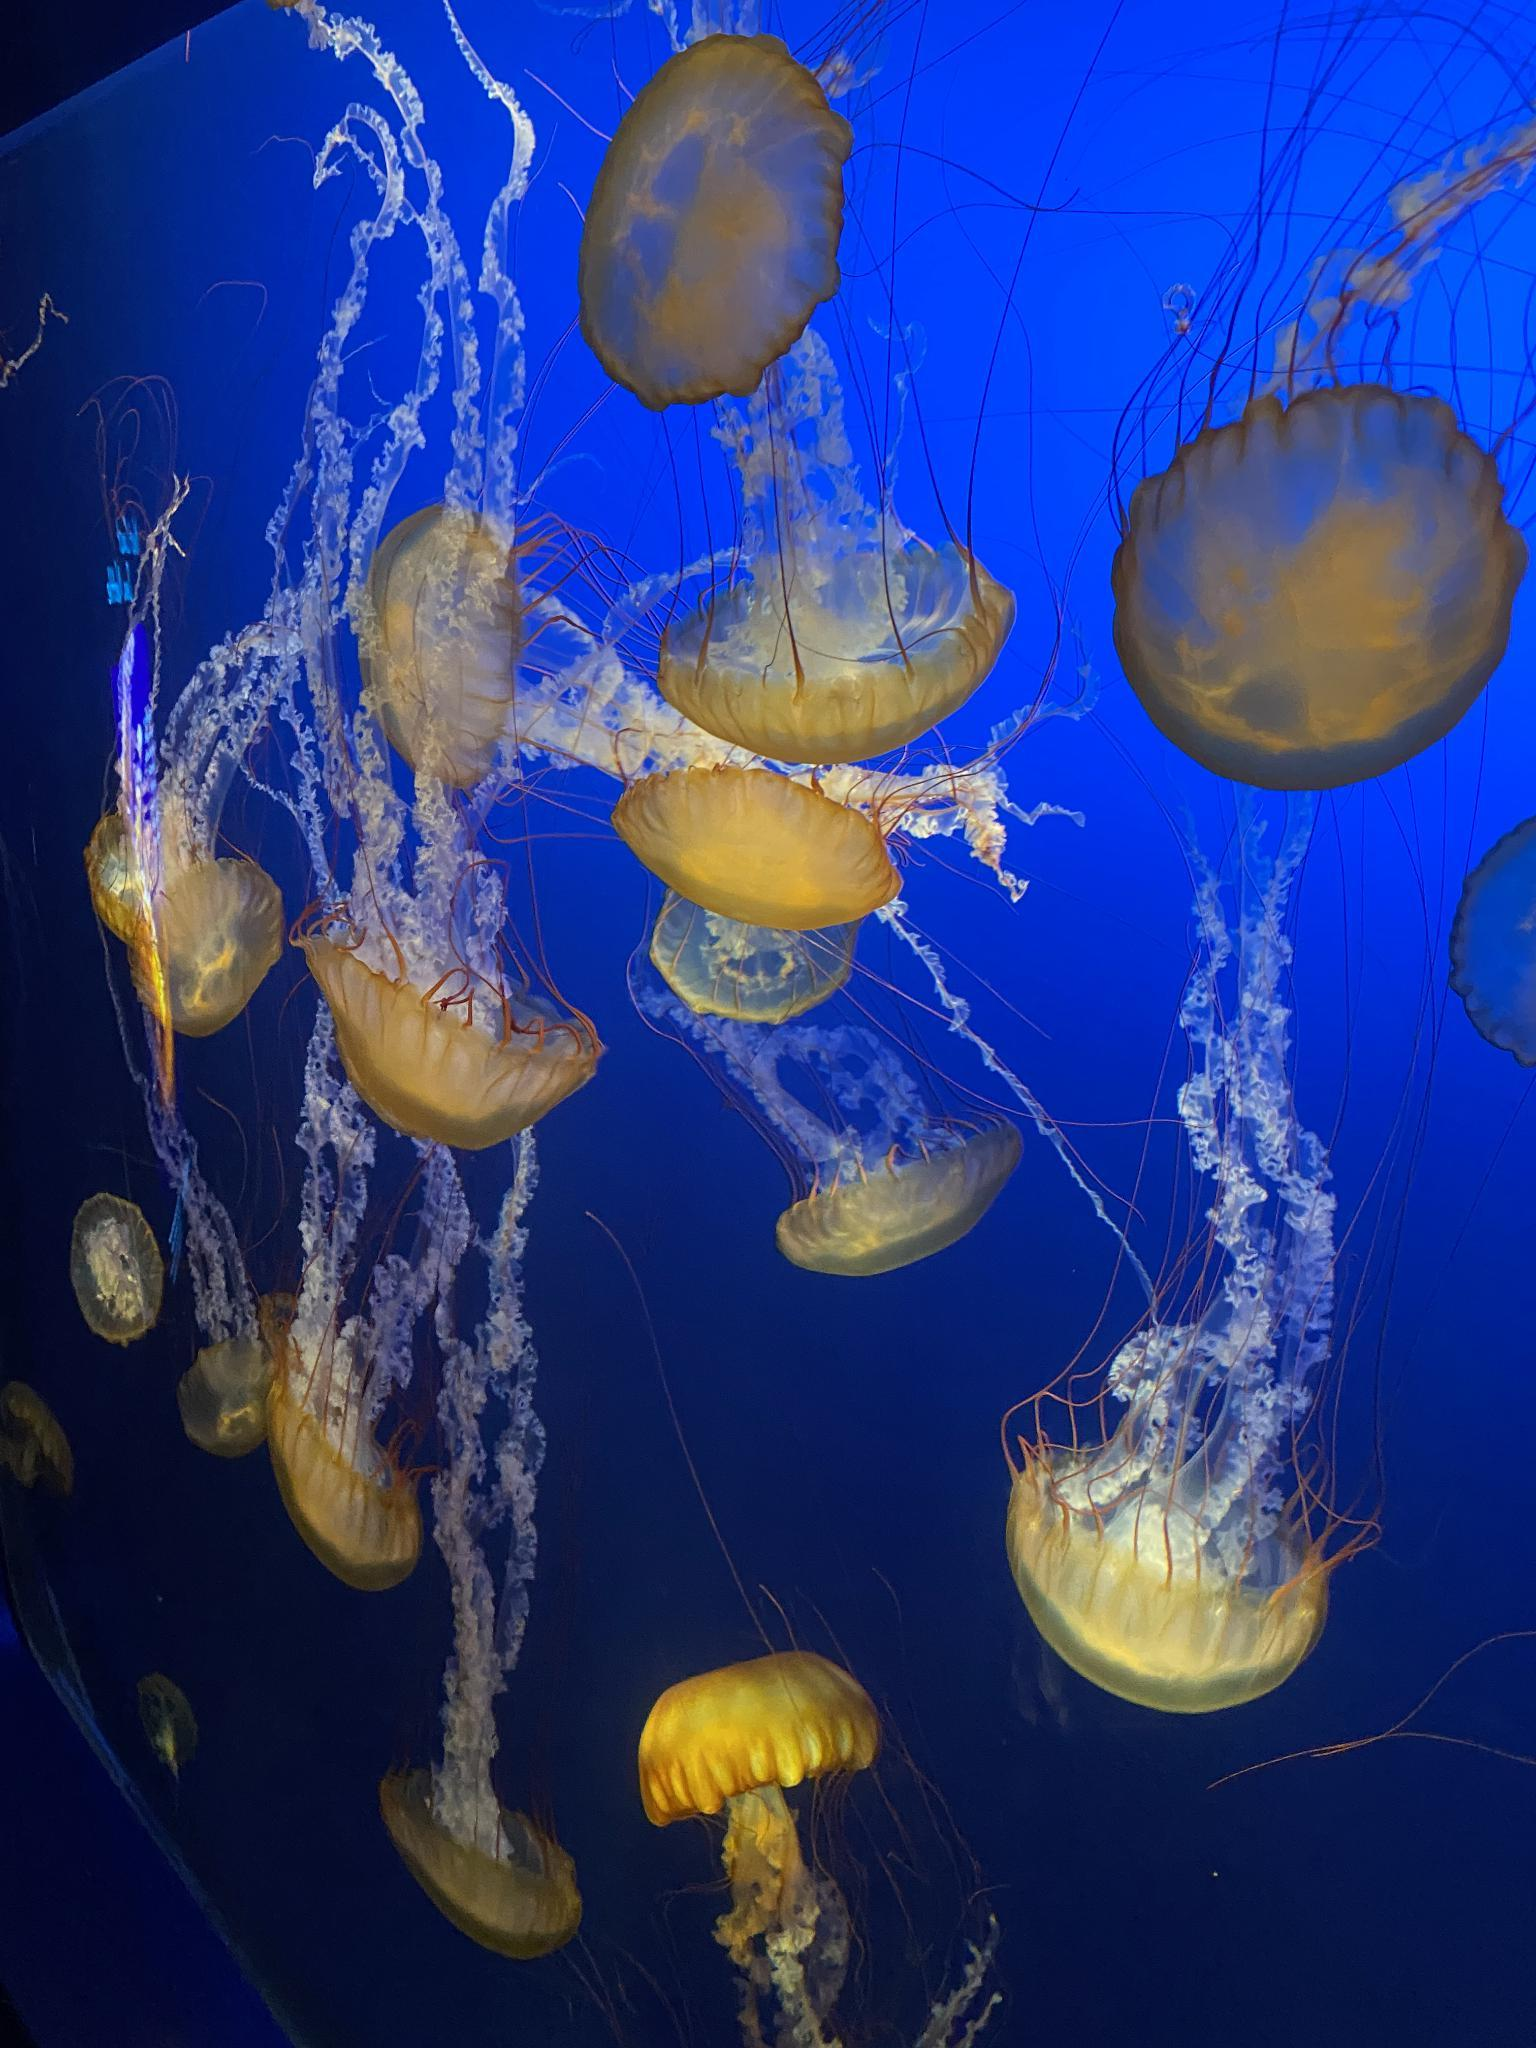jellyfish: (1105, 385, 1528, 792), (574, 31, 849, 414), (1004, 1445, 1325, 1716), (653, 543, 1012, 768), (303, 929, 603, 1153), (611, 766, 902, 929), (81, 810, 284, 1037), (361, 502, 516, 795), (637, 1650, 883, 1829), (374, 1758, 581, 1954), (778, 1118, 1020, 1276), (265, 1356, 416, 1595), (653, 885, 860, 1024), (1450, 814, 1536, 1066), (68, 1198, 168, 1345), (0, 1379, 77, 1493), (139, 1679, 195, 1758)
